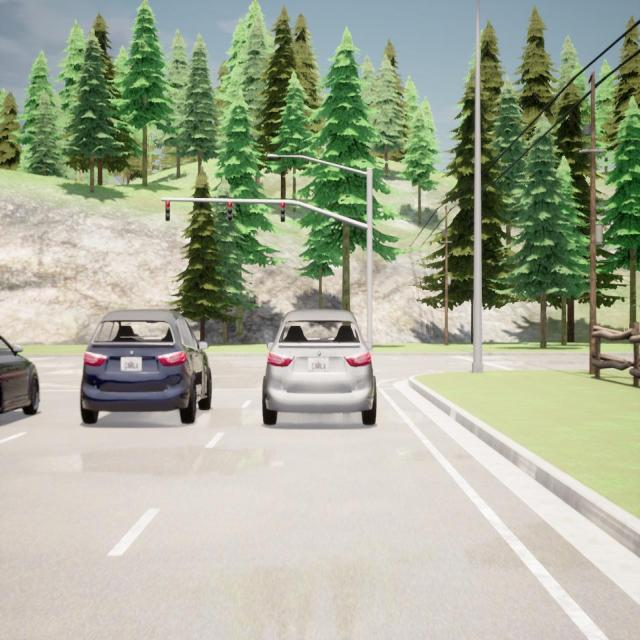Vehicle: (80, 309, 212, 424), (262, 310, 376, 424), (1, 332, 41, 420)
traffic_light: (165, 200, 170, 220), (228, 202, 232, 222), (281, 202, 285, 222)
